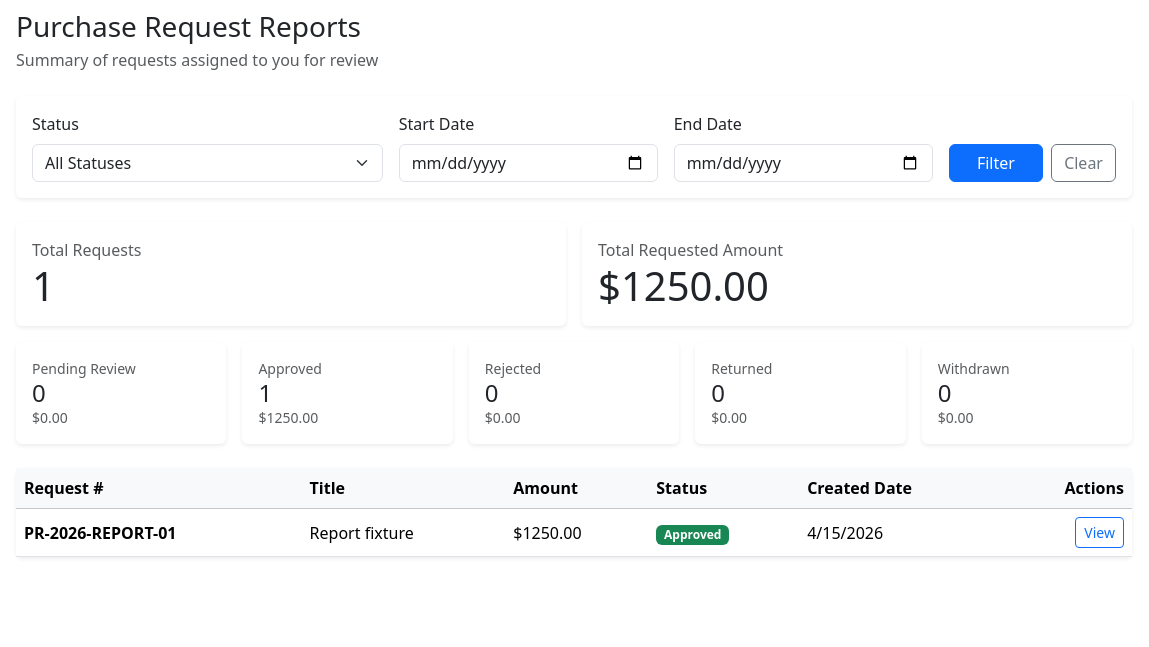
Scenario: Reports page › applies status and date filters to the list and summary and handles empty results
Expected: the text with test id "report-total-amount" reads "$1250.00", [598,258,769,313]
Expected: the text "Report fixture" is shown, [302,509,505,557]
Select "Approved" in the dropdown named "status filter" at (207, 163), box [32,144,383,182]
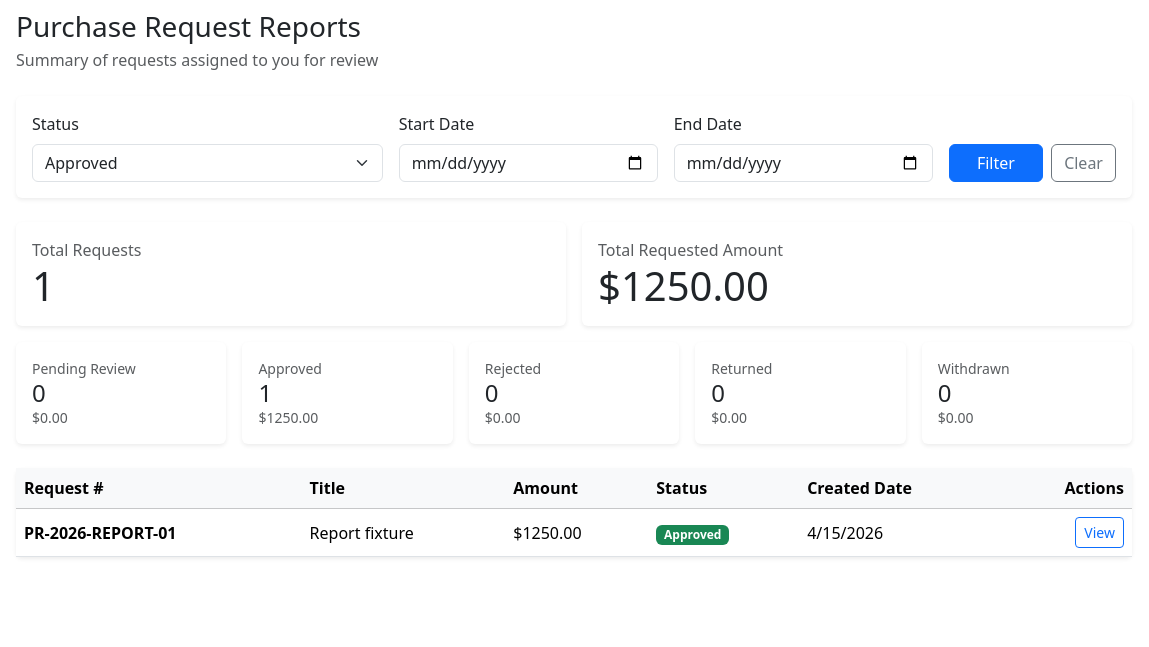
Type "2099-01-01" into the date field labelled "Start Date" at (528, 163), box [399,144,658,182]
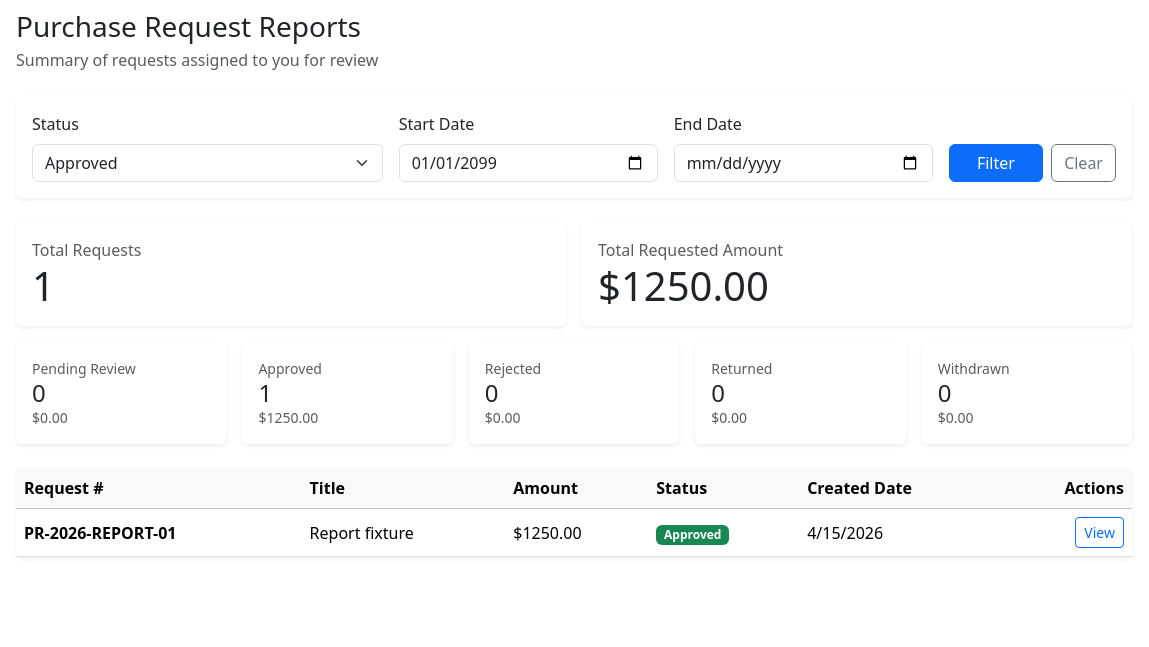
Type "2099-01-31" into the date field labelled "End Date" at (803, 163), box [674,144,933,182]
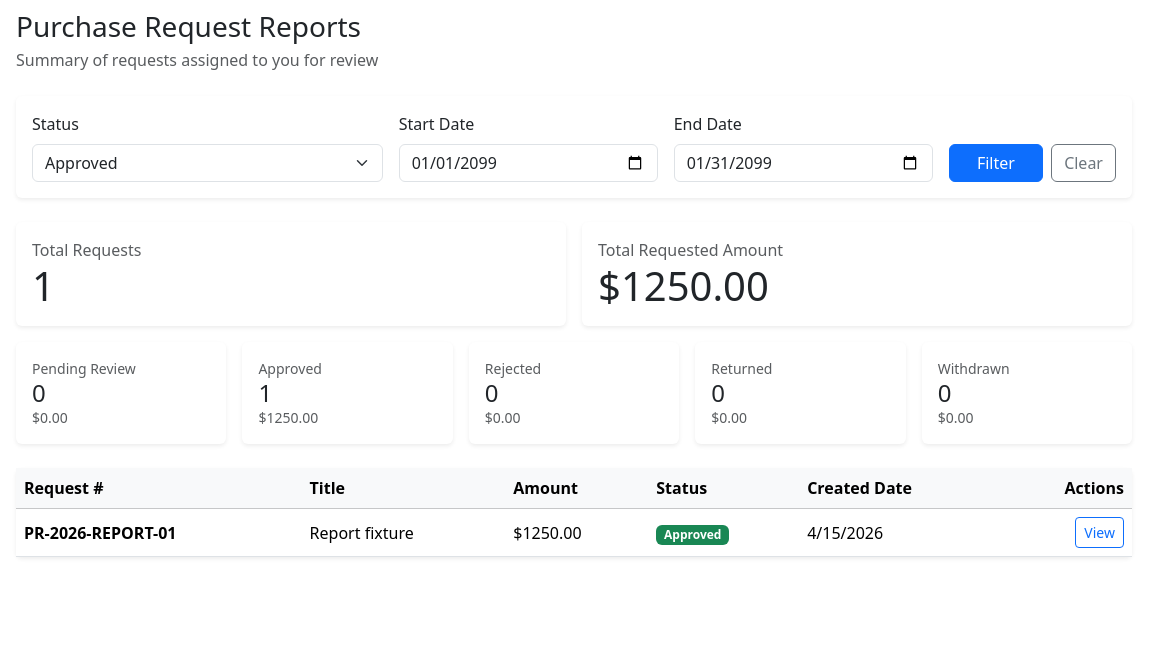
Click the button "Filter" at (996, 163), box [949,144,1043,182]
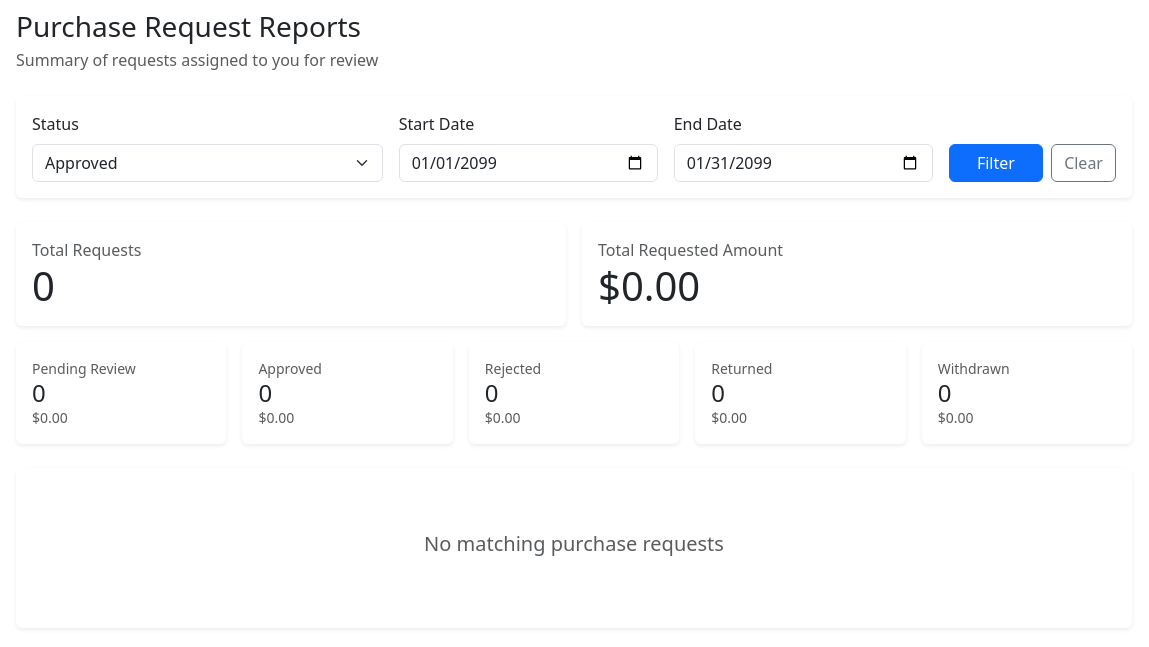
Expected: the text with test id "report-total-count" reads "0", [32,258,55,313]
Expected: the text with test id "report-total-amount" reads "$0.00", [598,258,700,313]
Expected: the text with test id "report-status-APPROVED" reads "0", [258,376,272,409]
